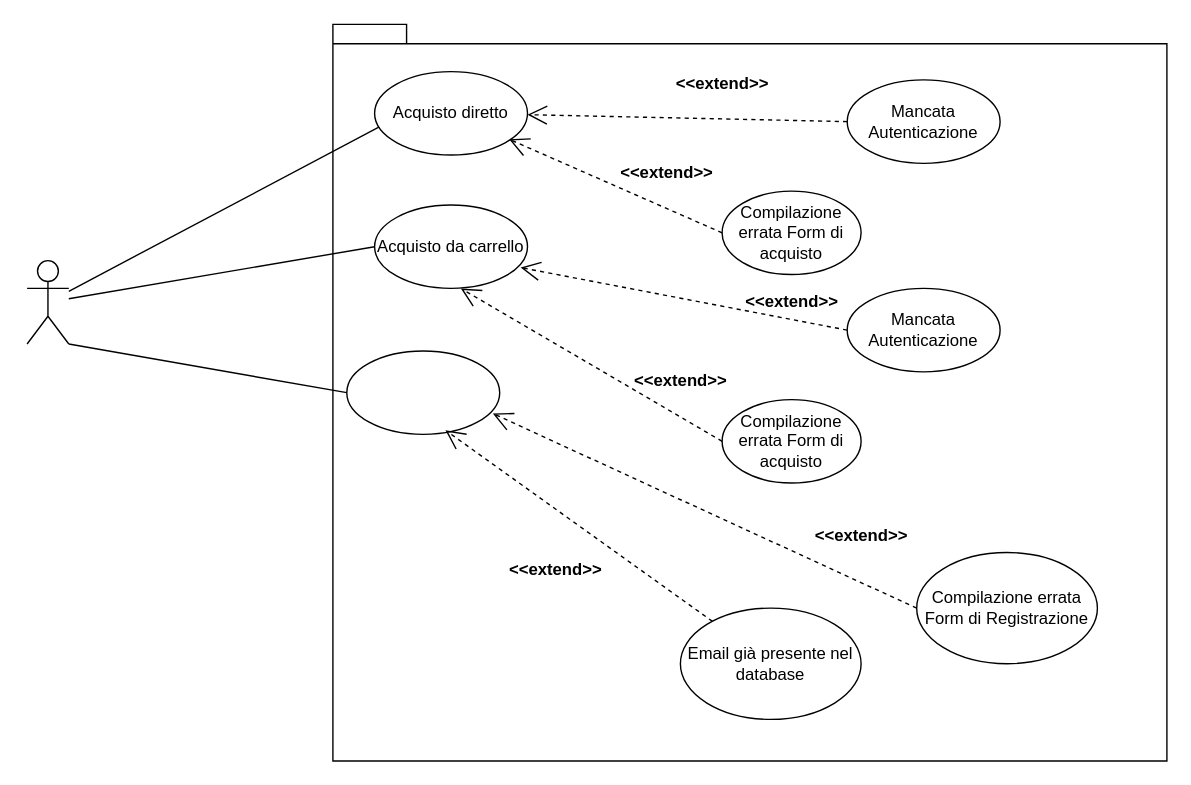
The diagram is 1191 pixels wide and 785 high, and some of its shapes have lost their labels. The shapes that lost their labels are listed below. From the top down, each one's centre as x and y in pixels, then its label:
the point at 47,301: Utente
the point at 422,392: Registrazione
